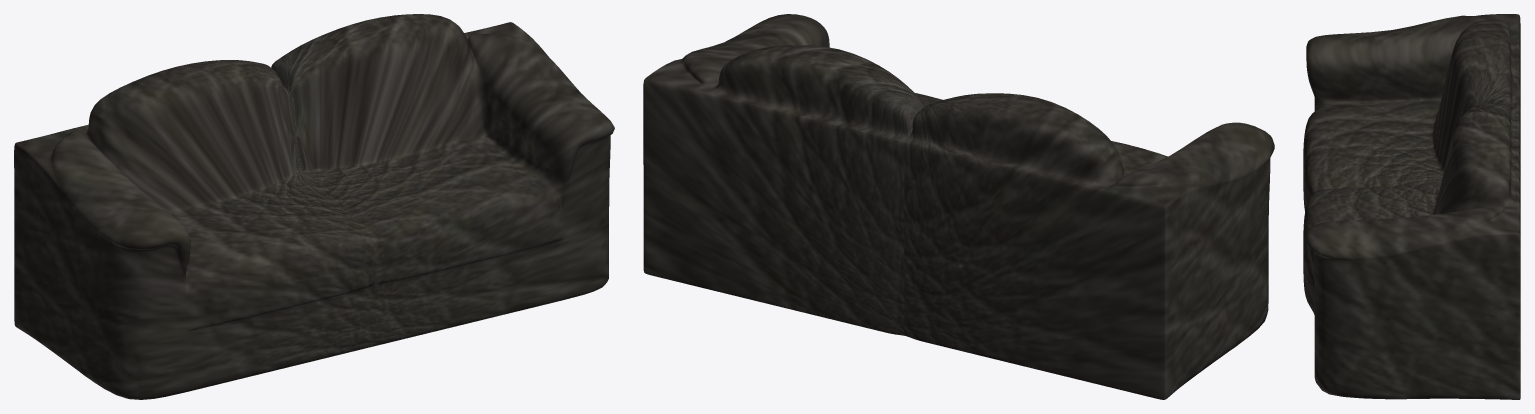
File: sofa.obj
3 renders of one model, left to right at view 1: azimuth 30°, elevation 25°; view 2: azimuth 150°, elevation 25°; view 3: azimuth 270°, elevation 25°, orthographic. The views are drawn at different scales.
Parts seen in each view (by area): view 1: plush_sofa; view 2: plush_sofa; view 3: plush_sofa.
Part boxes in pixels (box(x1,y1,x2,y2)): plush_sofa: box(14, 14, 614, 399); plush_sofa: box(643, 14, 1274, 399); plush_sofa: box(1303, 14, 1520, 399).
Size of the model in its own units: 1.07 by 0.4733 by 0.445.
1 material, 1 textured.
